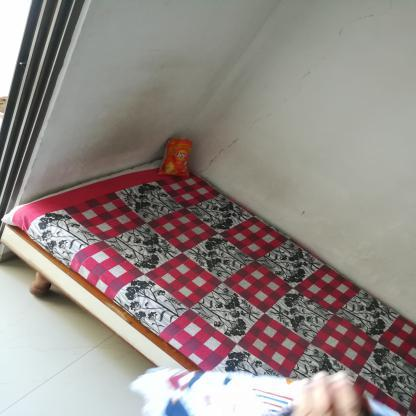hot_and_sweet: (160, 135, 196, 184)
